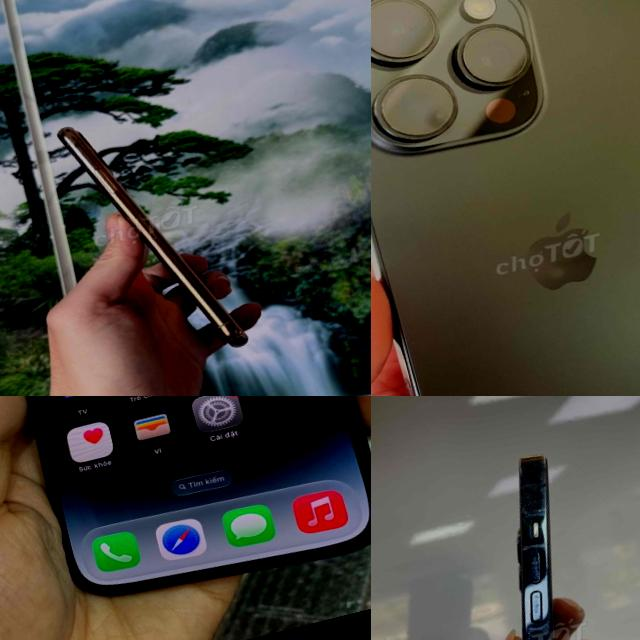gen_11: (54, 91, 258, 381)
gen_12_13: (419, 438, 640, 640)
gen_14: (0, 396, 371, 619)
gen_16: (371, 0, 640, 396)
